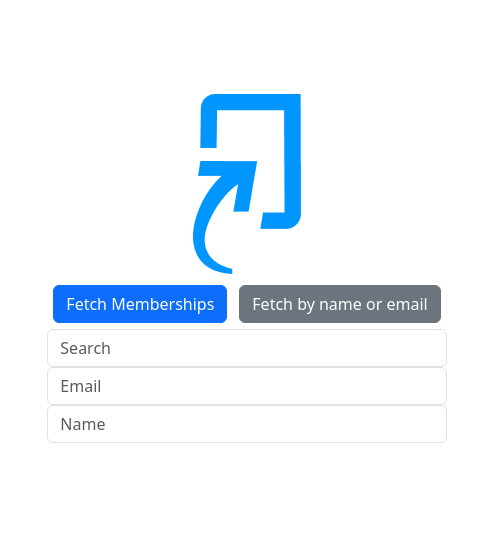
Test: App › should display a fetch memberships button with results after click
The width and height of the screenshot is (488, 538).
Click the button "Fetch Memberships".
click(140, 304)  # box [53, 285, 227, 323]
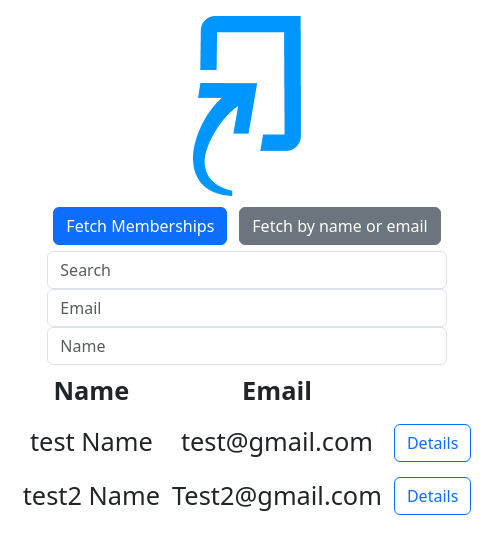
expect the text "test@gmail.com" is shown: met, box [166, 415, 388, 468]
expect the text "test Name" is shown: met, box [17, 415, 166, 468]
expect the text "Test2@gmail.com" is shown: met, box [166, 468, 388, 521]
